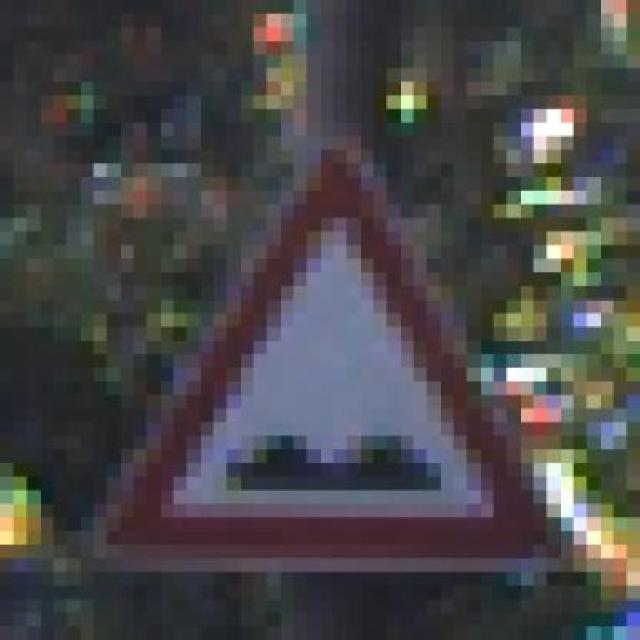Uneven Road: (93, 123, 547, 572)
